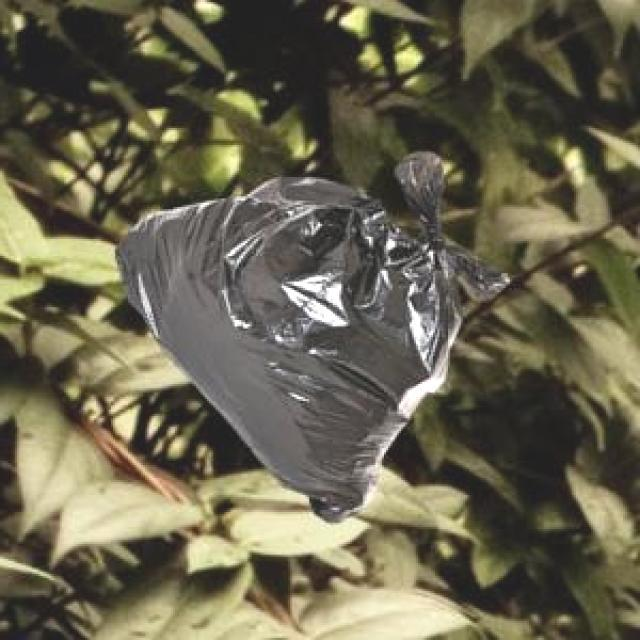Trashbag: (108, 178, 474, 526)
